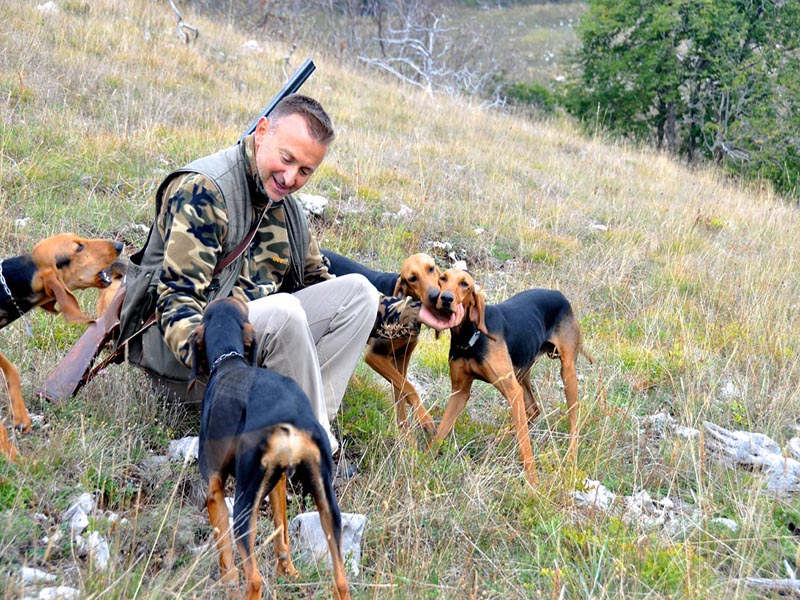cacciatore: (105, 68, 380, 345)
cane da caccia: (190, 293, 354, 597), (5, 232, 121, 461), (442, 279, 570, 474)
